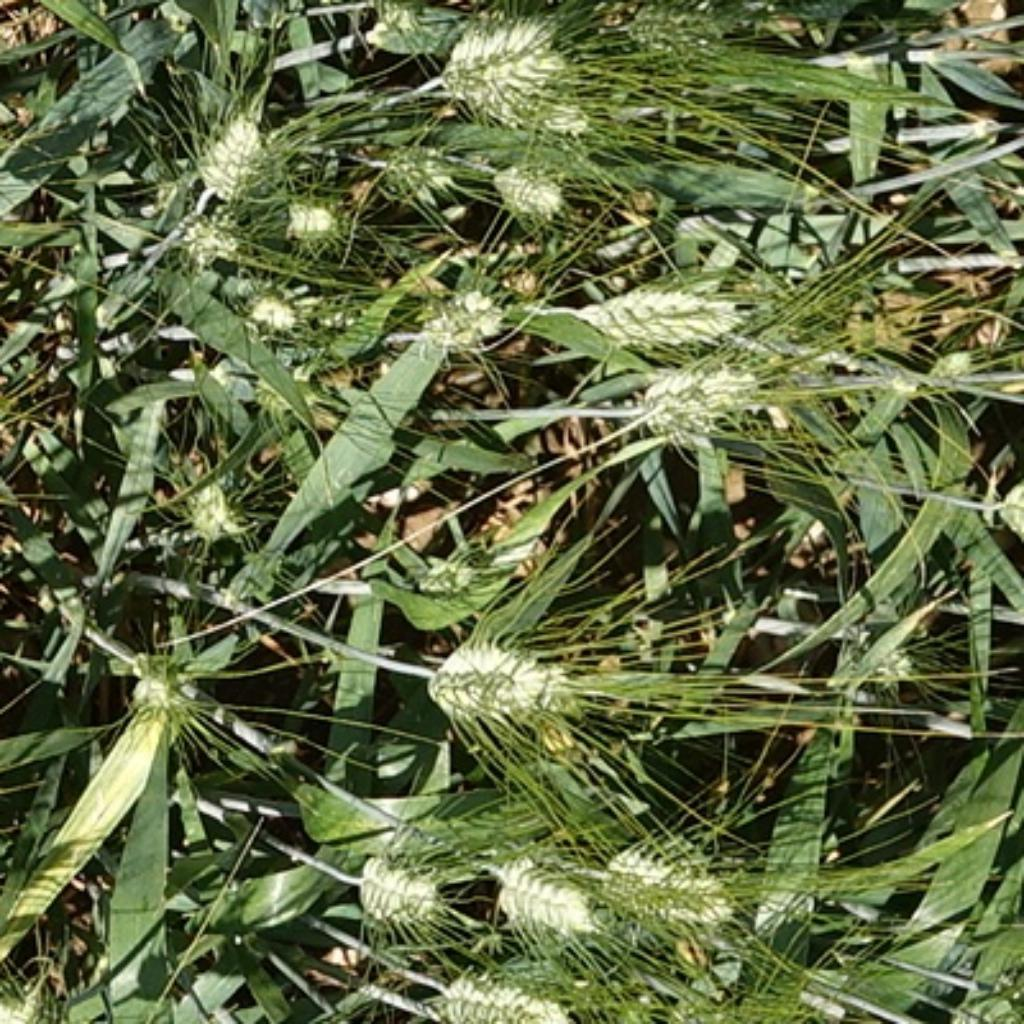0-0: (430, 0, 588, 122), (417, 619, 578, 729), (578, 266, 762, 350), (588, 824, 732, 931), (622, 343, 762, 440), (483, 837, 601, 939), (184, 103, 291, 205), (399, 266, 509, 358), (421, 961, 580, 1024), (611, 0, 773, 61), (821, 609, 931, 693), (345, 842, 450, 929), (117, 634, 209, 727), (0, 957, 102, 1024), (371, 128, 458, 197), (483, 156, 565, 220), (355, 0, 448, 56), (166, 199, 245, 263), (175, 473, 248, 540), (279, 181, 355, 245), (409, 542, 486, 604), (238, 273, 304, 332)
